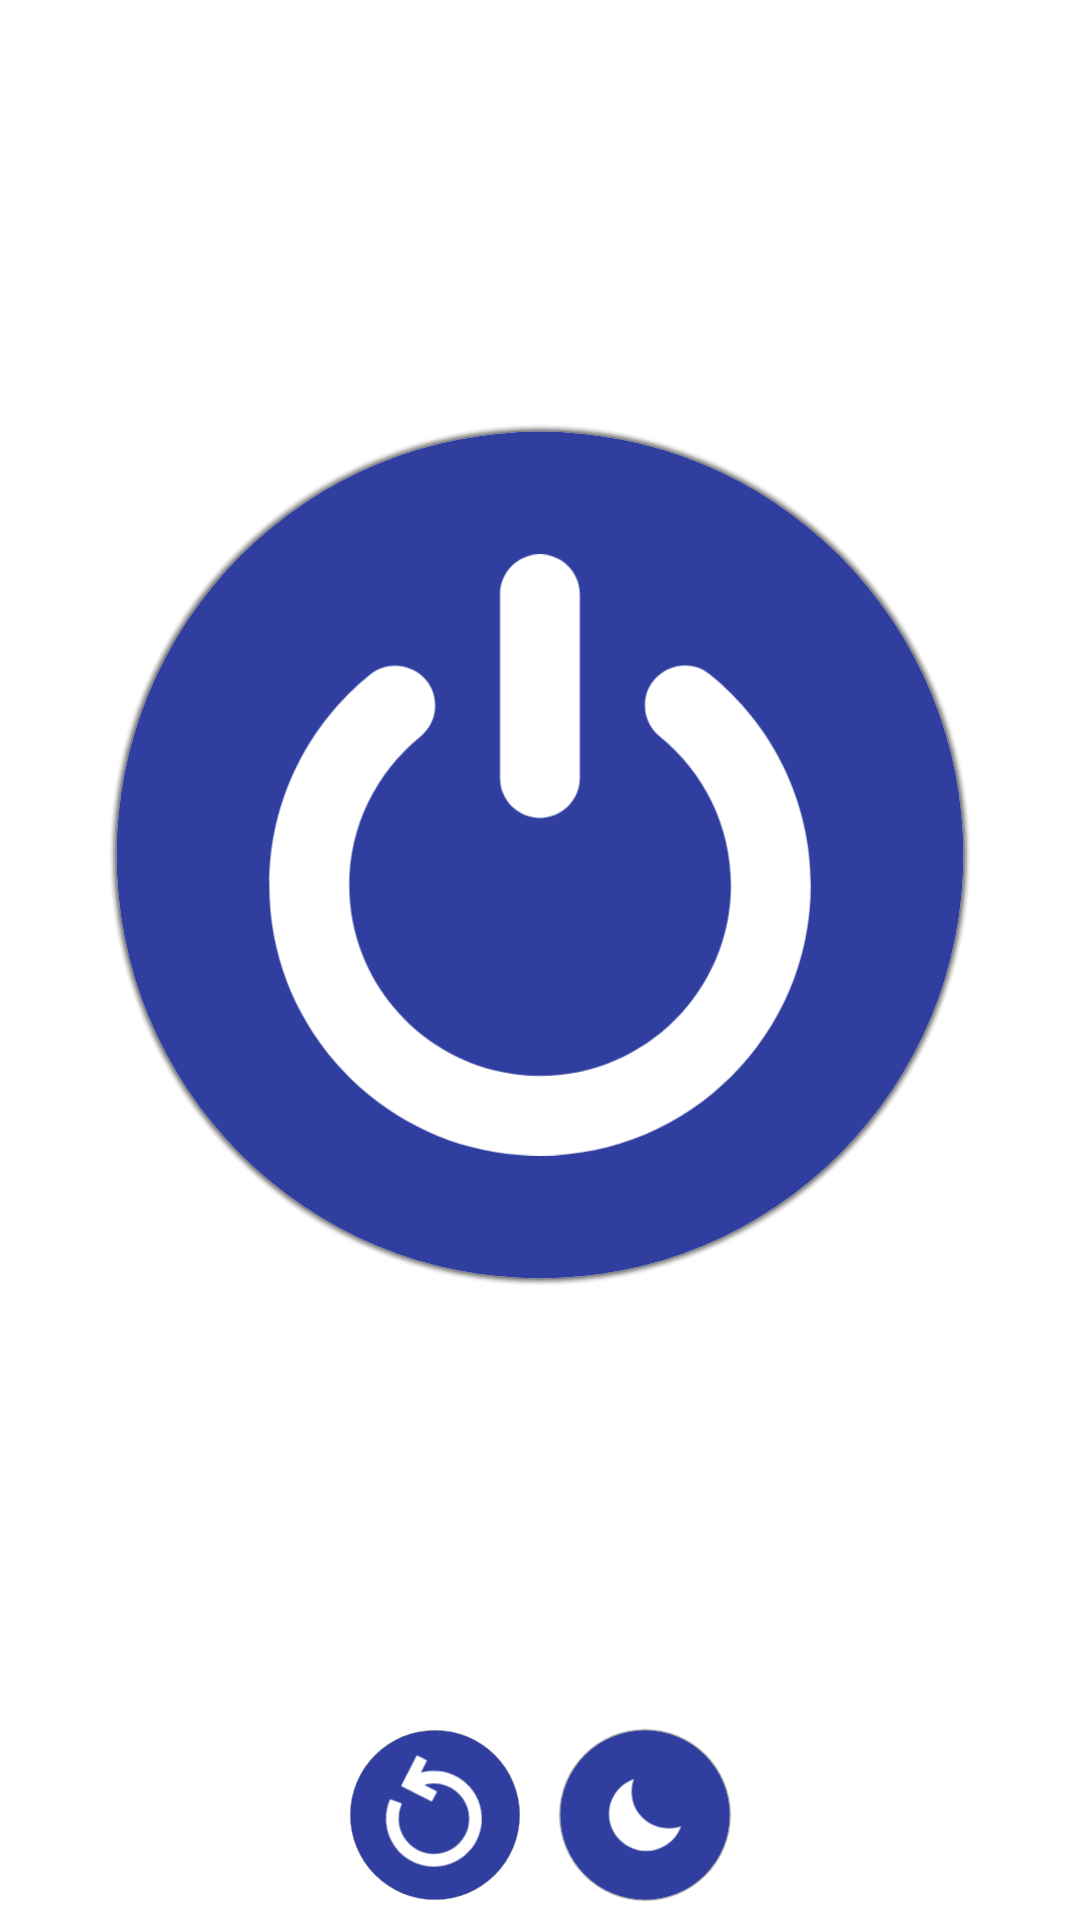

Icon click points for this 1080 × 1920 phone screenshot, format [x,y]:
restart: [435,1815]
sleep: [645,1815]
